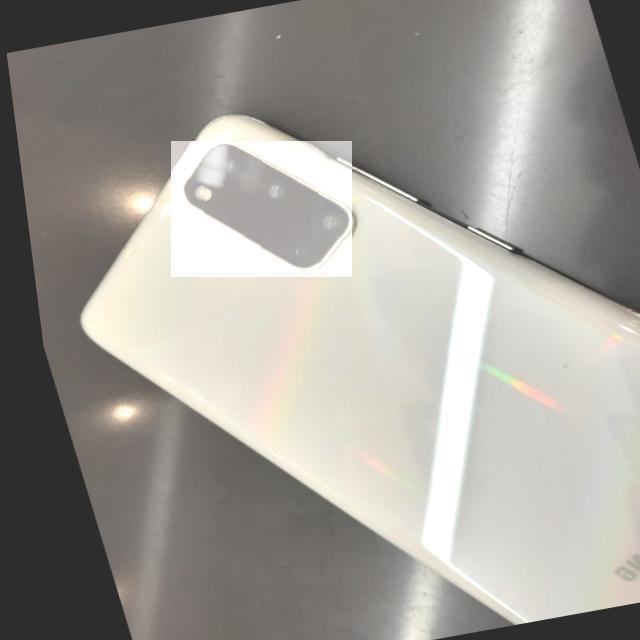Mobile: (77, 109, 640, 629)
